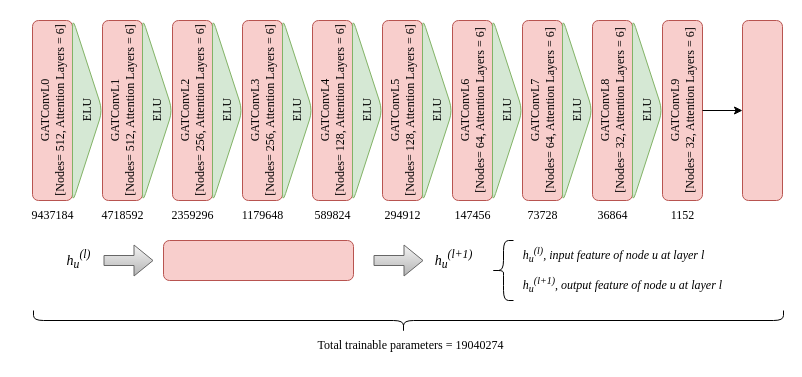
The diagram is 802 pixels wide and 377 high, and some of its shapes have lost their labels. The centre of each missing label's shape, as x and y in pixels:
"Adam Optimizer" goes at (762,110).
"GATConv" goes at (258,260).
